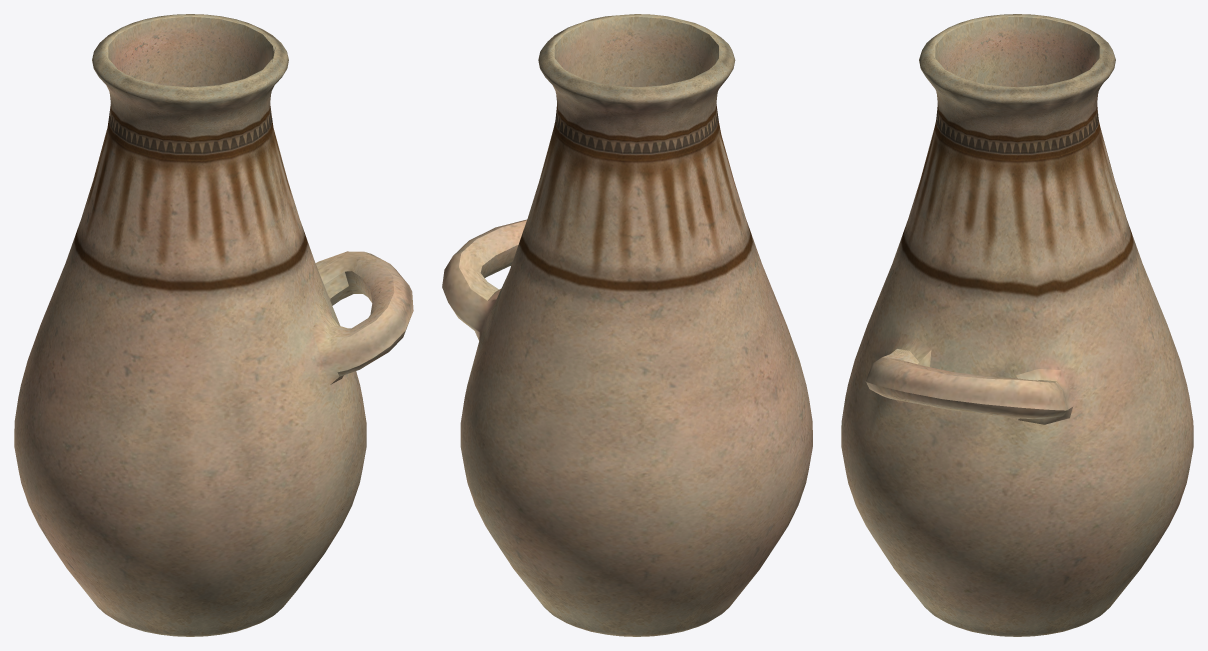
Rendered from Pottery 2.FBX.
3 renders of one model, left to right at view 1: azimuth 30°, elevation 25°; view 2: azimuth 150°, elevation 25°; view 3: azimuth 270°, elevation 25°, orthographic.
Parts seen in each view (by area): view 1: Pottery 2; view 2: Pottery 2; view 3: Pottery 2.
Part boxes in pixels (x1,y1,x2,y2): Pottery 2: [14, 14, 413, 636]; Pottery 2: [442, 14, 812, 636]; Pottery 2: [841, 14, 1193, 636].
Size of the model in its own units: 1016 by 1563 by 900.
Materials: 1 (1 with a texture image).
